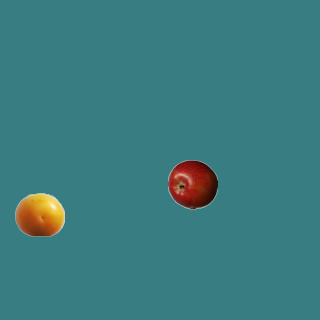Apple Braeburn: (167, 159, 217, 209)
Cherry Wax Yellow: (14, 189, 64, 239)
